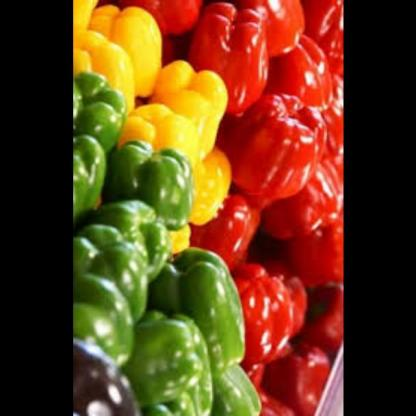bell pepper: (73, 0, 344, 416)
